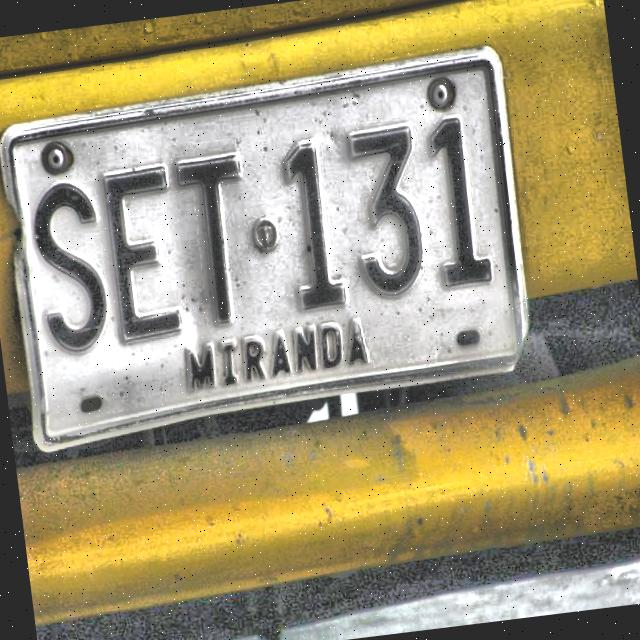1: (273, 133, 360, 317), (421, 109, 500, 294)
3: (338, 122, 439, 301)
E: (99, 162, 192, 346)
S: (24, 175, 115, 361)
T: (171, 149, 253, 328)
